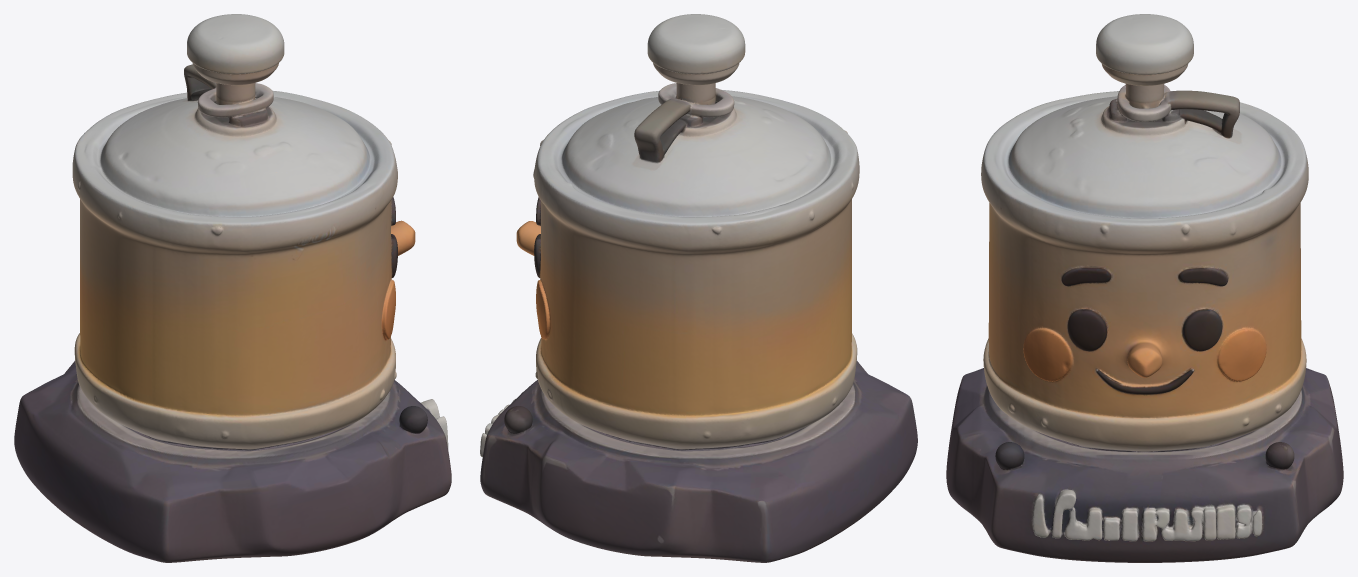
File: watertank.glb
3 views of the same model, side by side, from view 1: azimuth 30°, elevation 25°; view 2: azimuth 150°, elevation 25°; view 3: azimuth 270°, elevation 25° (orthographic).
Parts seen in each view (by area): view 1: tripo_node_33808ca8-a4e0-4f1e-939b-088d680f6dc9; view 2: tripo_node_33808ca8-a4e0-4f1e-939b-088d680f6dc9; view 3: tripo_node_33808ca8-a4e0-4f1e-939b-088d680f6dc9.
Part boxes in pixels (x1,y1,x2,y2): tripo_node_33808ca8-a4e0-4f1e-939b-088d680f6dc9: (14,14,451,562); tripo_node_33808ca8-a4e0-4f1e-939b-088d680f6dc9: (480,14,917,562); tripo_node_33808ca8-a4e0-4f1e-939b-088d680f6dc9: (946,14,1343,562).
Bounding box in the file's own units: 0.785 × 1 × 0.7721.
Materials: 1 (1 with a texture image).
